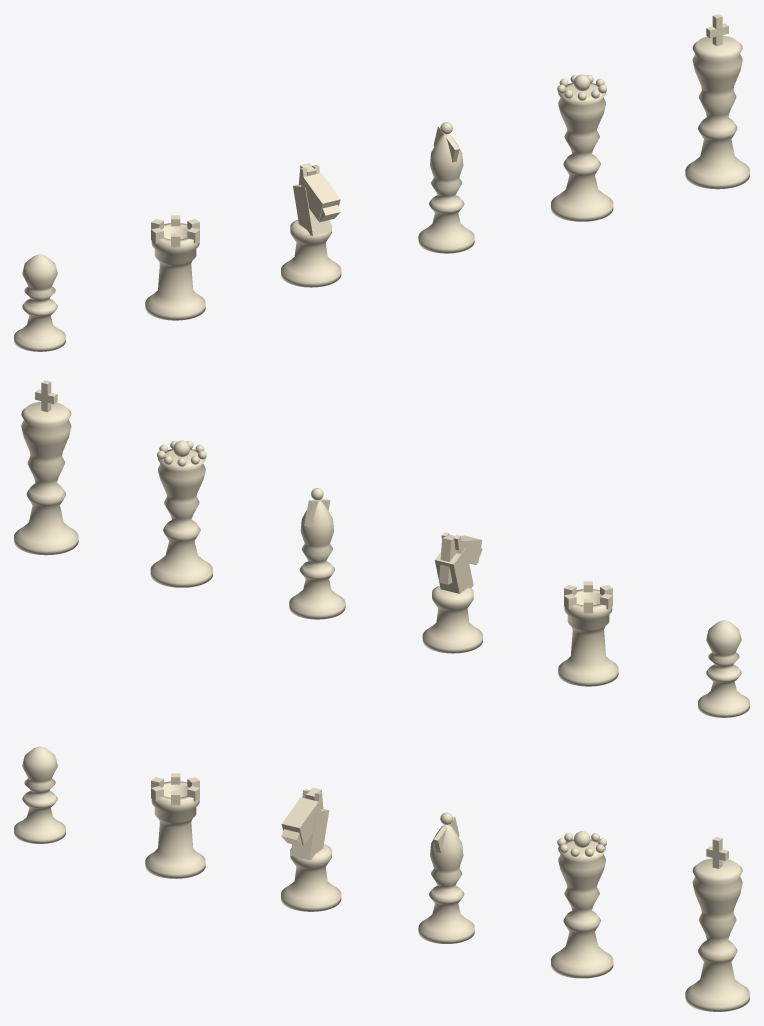
The model's file is chess_set.fbx.
3 renders of one model, top to bottom at view 1: azimuth 30°, elevation 25°; view 2: azimuth 150°, elevation 25°; view 3: azimuth 330°, elevation 25°, orthographic.
Visible parts, largest first — view 1: King, Queen, Knight, Rook, Bishop, Pawn; view 2: King, Queen, Knight, Rook, Bishop, Pawn; view 3: King, Queen, Knight, Rook, Bishop, Pawn.
Part boxes in pixels (x1,y1,x2,y2): King: [685, 14, 749, 189]; Queen: [551, 74, 613, 221]; Knight: [281, 163, 341, 287]; Rook: [145, 215, 205, 320]; Bishop: [418, 122, 474, 253]; Pawn: [14, 254, 65, 351]; King: [14, 380, 78, 555]; Queen: [150, 440, 212, 587]; Knight: [422, 532, 482, 653]; Rook: [558, 581, 618, 686]; Bishop: [289, 488, 345, 619]; Pawn: [698, 620, 749, 717]; King: [685, 837, 749, 1011]; Queen: [551, 831, 613, 978]; Knight: [281, 787, 341, 911]; Rook: [145, 773, 205, 878]; Bishop: [418, 812, 474, 943]; Pawn: [14, 746, 65, 843].
Size of the model in its own units: 16.12 by 3.37 by 1.47.
